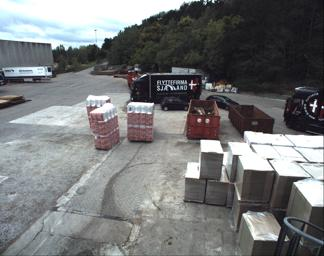rockwool_batts: (89, 103, 118, 147), (124, 100, 152, 140), (86, 94, 107, 112)
